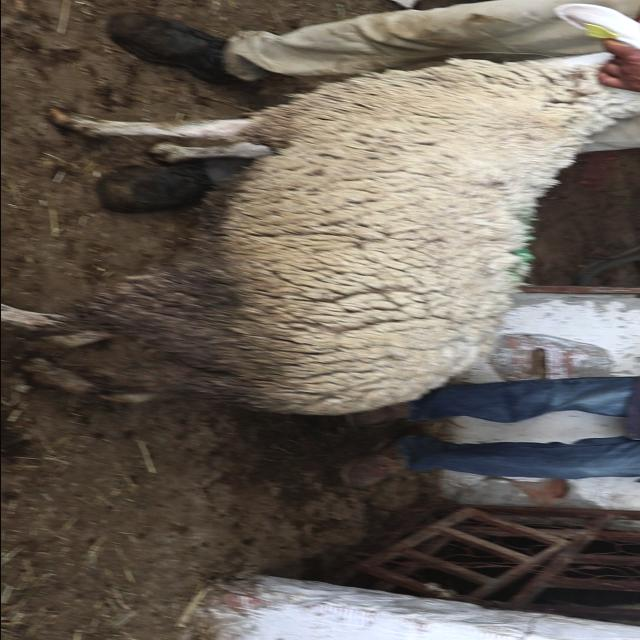Score_3: (1, 52, 640, 415)
